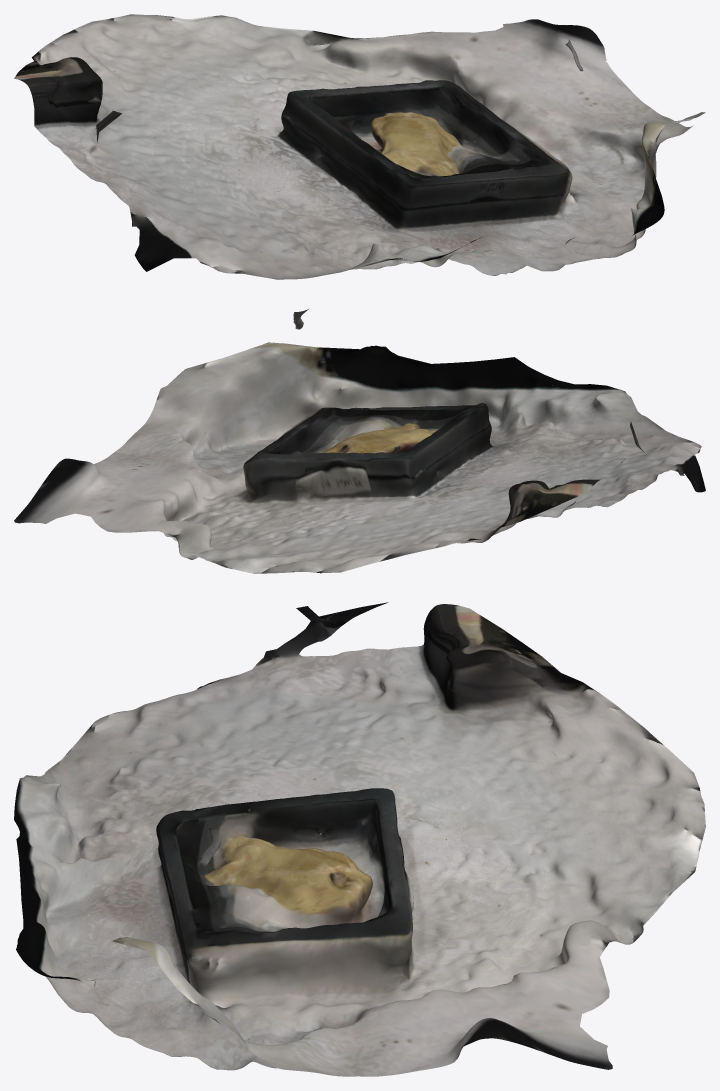
The picture shows the model from 3 angles, top to bottom: view 1: azimuth 30°, elevation 25°; view 2: azimuth 150°, elevation 25°; view 3: azimuth 270°, elevation 25°; orthographic projection. The views are drawn at different scales.
Bounding box in the file's own units: 1.97 × 0.5652 × 1.81.
1 material, 1 textured.
